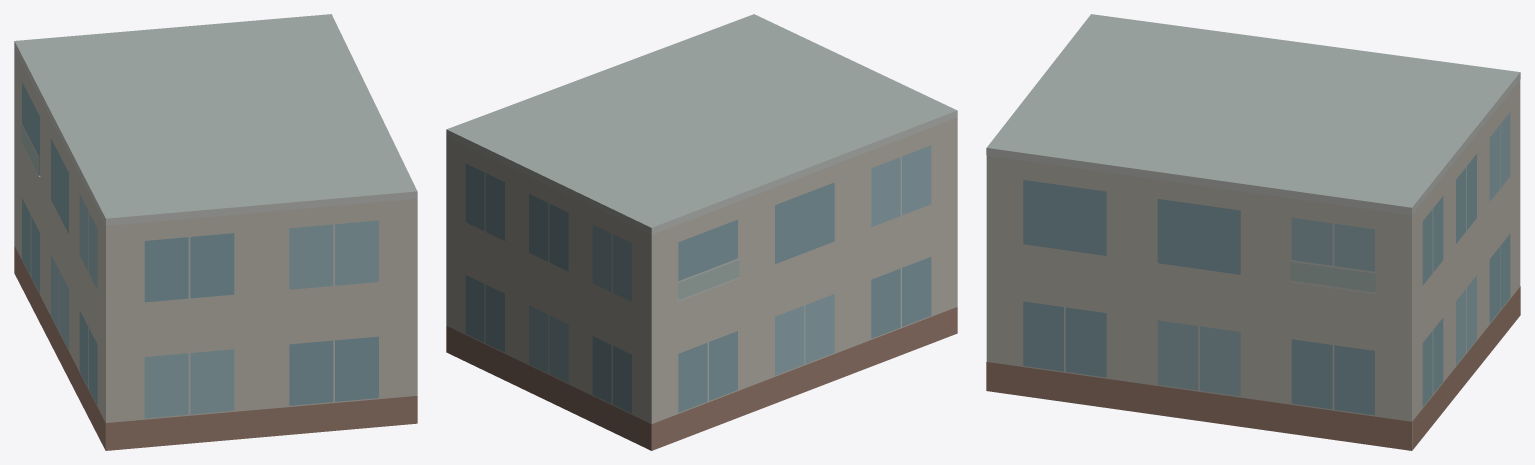
File: survey-upis-32768866.glb
3 views of the same model, side by side, from view 1: azimuth 30°, elevation 25°; view 2: azimuth 150°, elevation 25°; view 3: azimuth 270°, elevation 25° (orthographic). The views are drawn at different scales.
Visible parts, largest first — view 1: survey-upis-32768866.tmp; view 2: survey-upis-32768866.tmp; view 3: survey-upis-32768866.tmp.
Boxes of the visible parts, x1,y1,x2,y2 form: survey-upis-32768866.tmp: (14, 14, 417, 450); survey-upis-32768866.tmp: (446, 14, 957, 450); survey-upis-32768866.tmp: (986, 14, 1520, 450).
Size of the model in its own units: 13.34 by 7.8 by 15.53.
